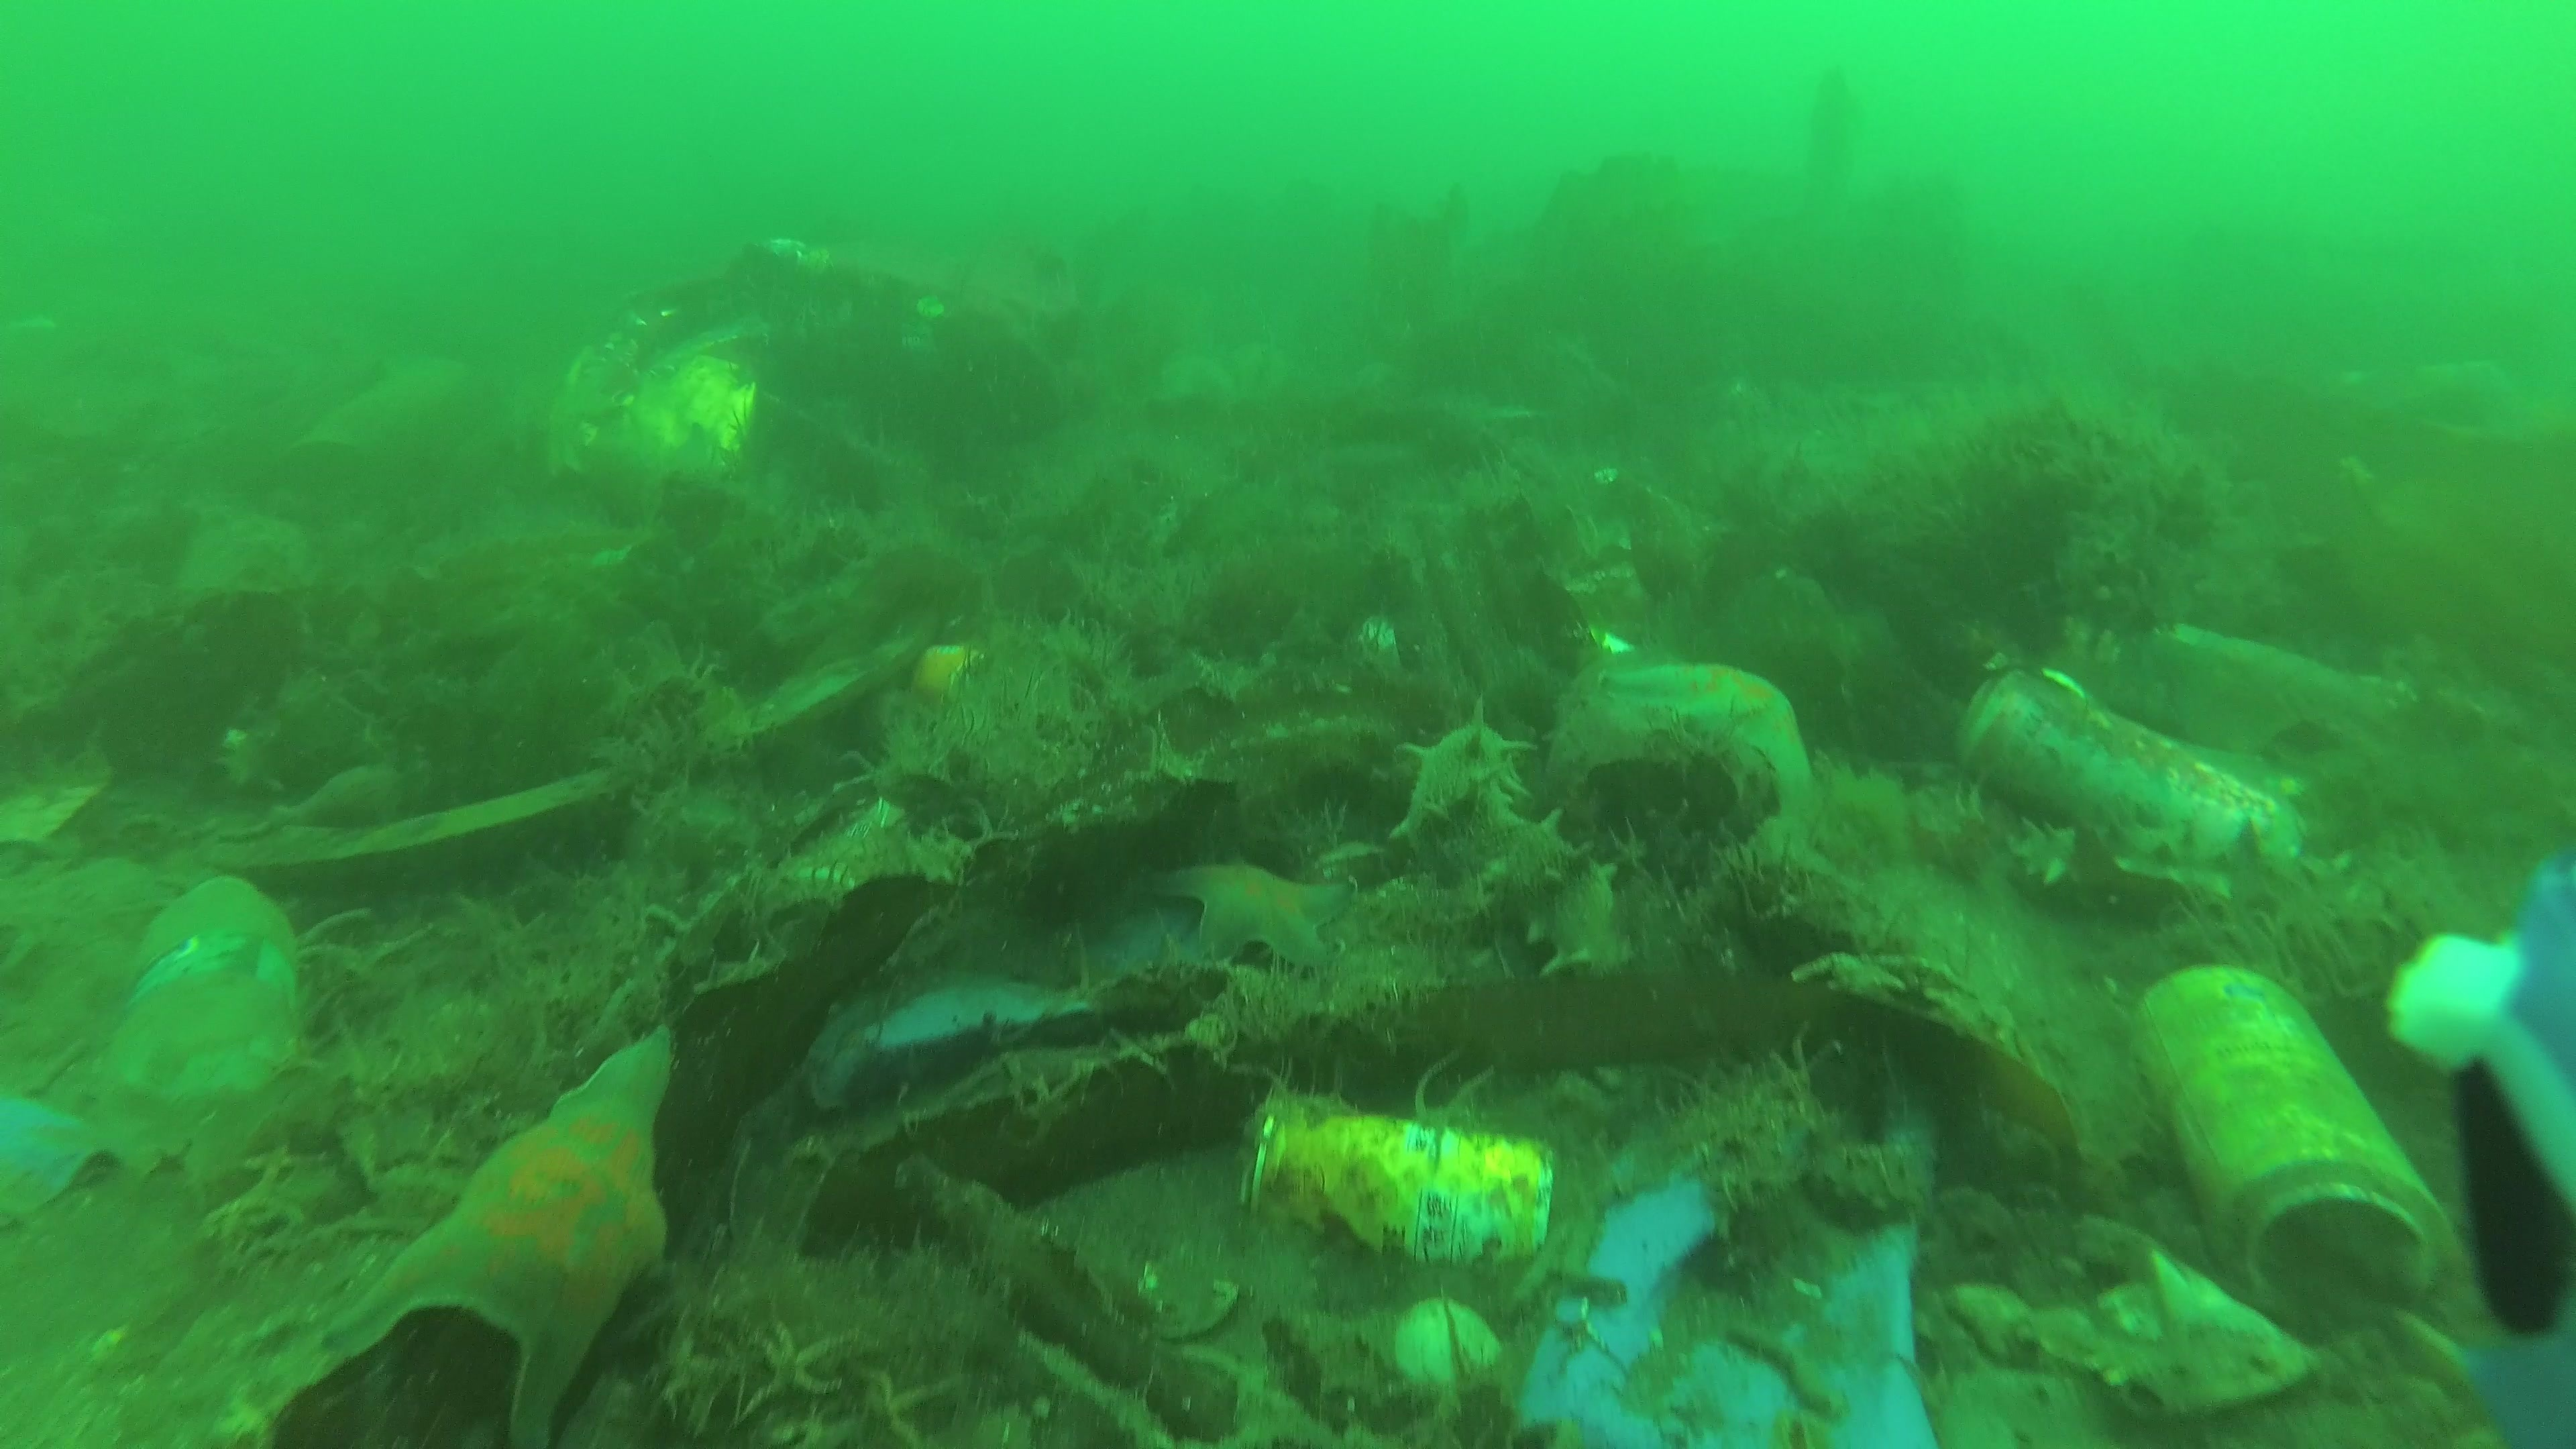holothurian: (1382, 697, 1642, 982), (2010, 816, 2348, 936)
starfish: (267, 1024, 676, 1449), (1541, 667, 1819, 832), (1145, 856, 1352, 971), (734, 1323, 849, 1428)
